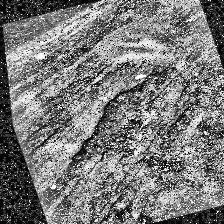pothole: (46, 69, 188, 171)
